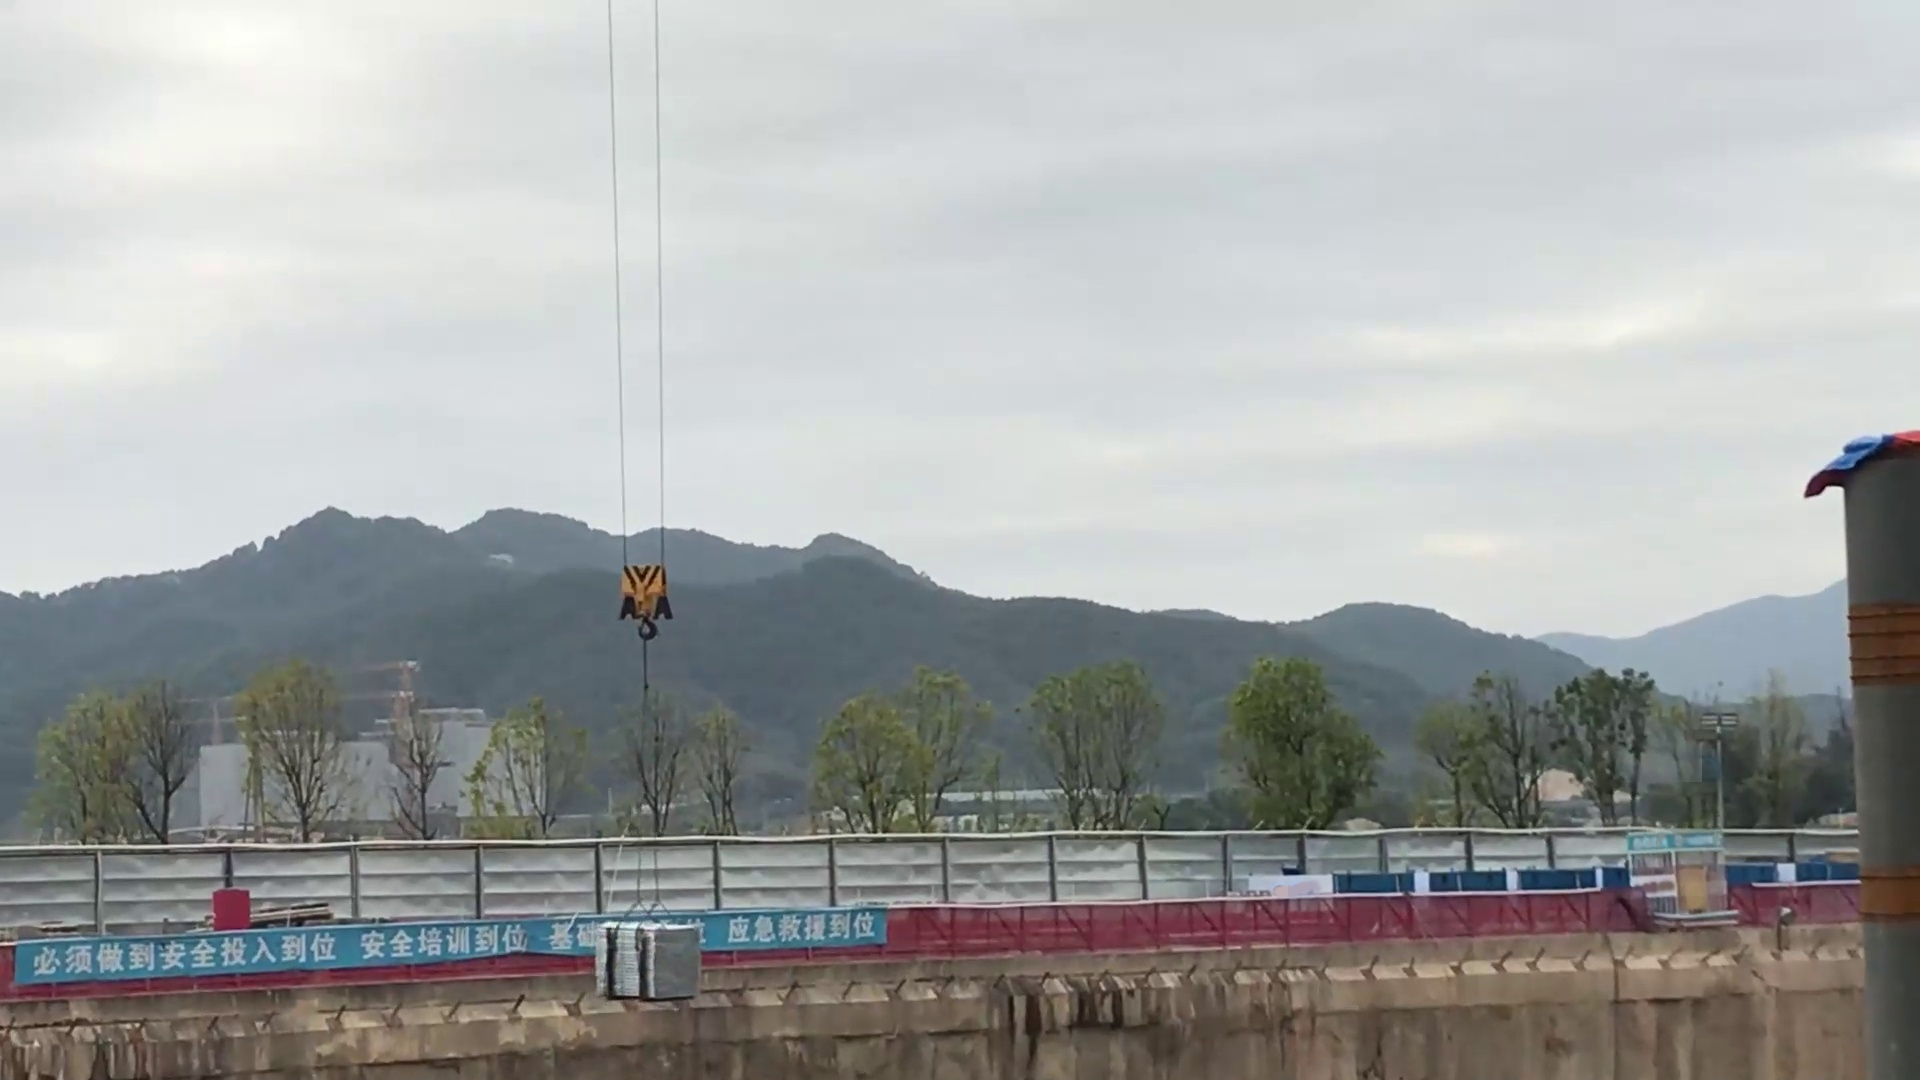fence: (9, 884, 1887, 994)
hook: (611, 554, 680, 653)
scaffold: (583, 920, 711, 996)
slogan: (16, 910, 890, 971)
